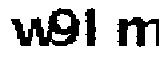9: (50, 6, 80, 48)
l: (83, 5, 103, 51)
m: (113, 15, 160, 51)
w: (8, 14, 51, 48)
